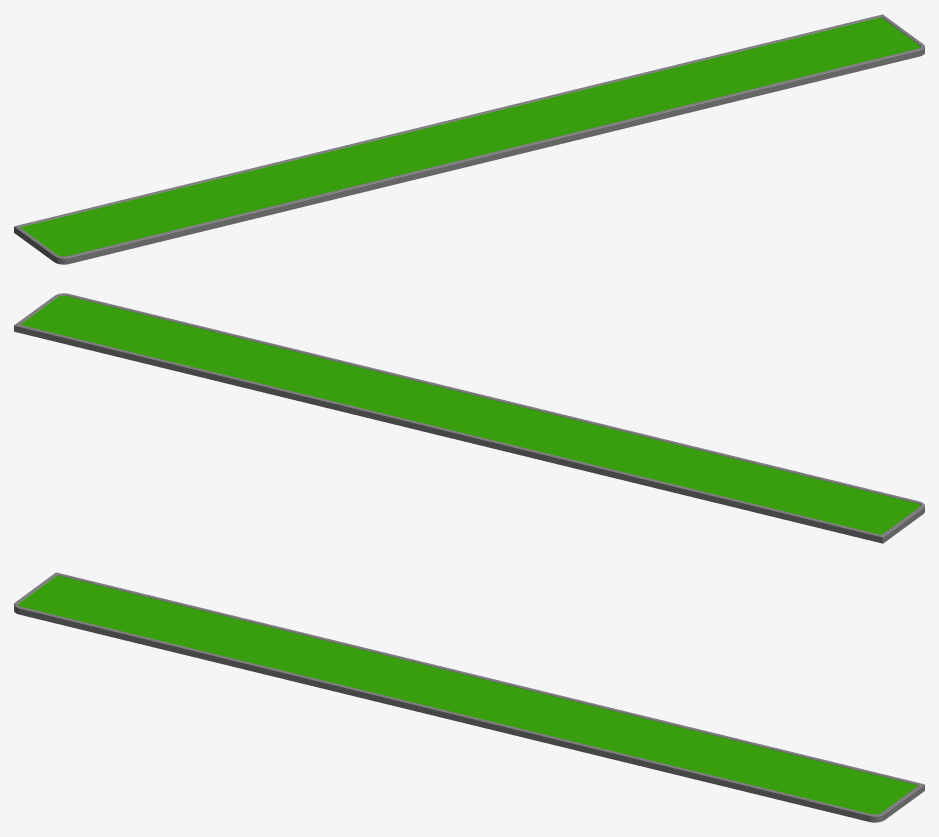
The model's file is place_6.fbx.
The picture shows the model from 3 angles, top to bottom: view 1: azimuth 30°, elevation 25°; view 2: azimuth 150°, elevation 25°; view 3: azimuth 330°, elevation 25°; orthographic projection.
Visible parts, largest first — view 1: place_6; view 2: place_6; view 3: place_6.
Part boxes in pixels (x1=…): place_6: x1=14, y1=14, x2=924, y2=264; place_6: x1=14, y1=293, x2=924, y2=543; place_6: x1=14, y1=572, x2=924, y2=822.
Bounding box in the file's own units: 4502 × 32.04 × 414.
